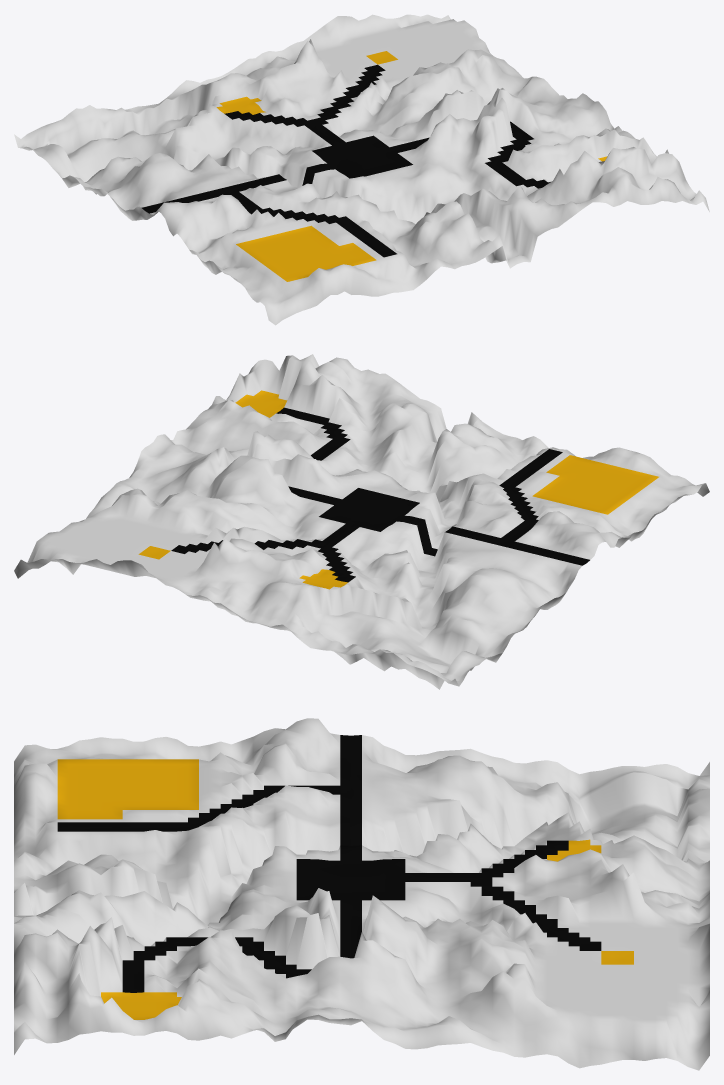
3 renders of one model, top to bottom at view 1: azimuth 30°, elevation 25°; view 2: azimuth 150°, elevation 25°; view 3: azimuth 270°, elevation 25°, orthographic. The views are drawn at different scales.
Visible parts, largest first — view 1: Plane.001; view 2: Plane.001; view 3: Plane.001.
Part boxes in pixels (<box>): Plane.001: <box>14,14,709,325</box>; Plane.001: <box>14,354,709,689</box>; Plane.001: <box>14,718,709,1070</box>.
Size of the model in its own units: 57287 by 11865 by 57287.
